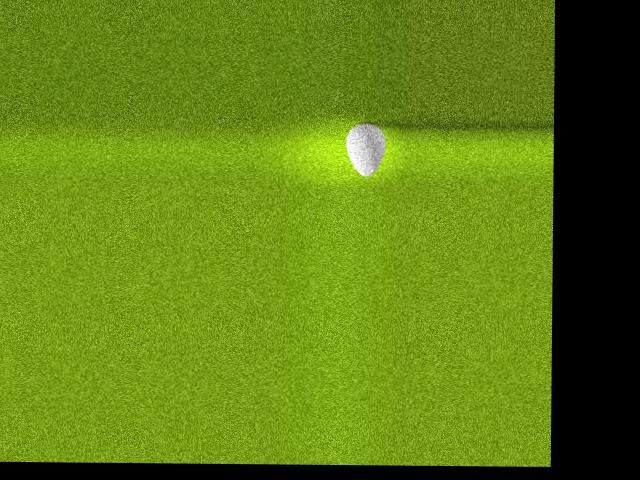egg: (346, 123, 385, 177)
